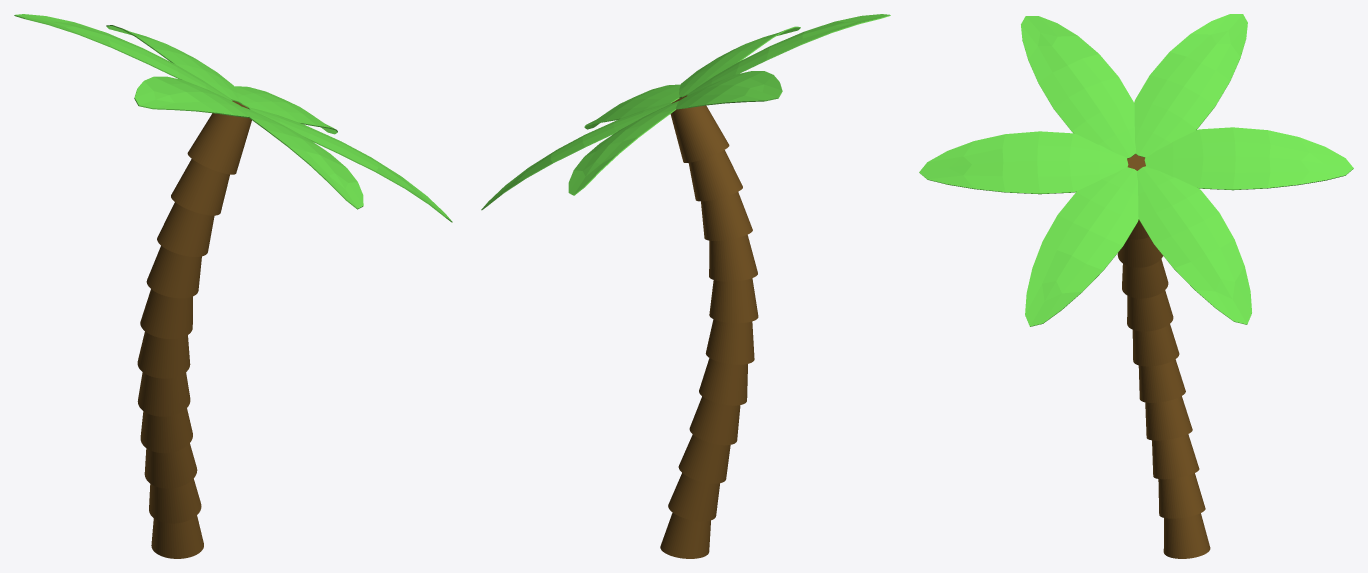
File: Tree2.glb
3 renders of one model, left to right at view 1: azimuth 30°, elevation 25°; view 2: azimuth 150°, elevation 25°; view 3: azimuth 270°, elevation 25°, orthographic. The views are drawn at different scales.
Parts seen in each view (by area): view 1: PalmTree; view 2: PalmTree; view 3: PalmTree.
Boxes of the visible parts, <box> form: PalmTree: <box>14,14,452,558</box>; PalmTree: <box>481,14,890,558</box>; PalmTree: <box>919,14,1353,558</box>.
Size of the model in its own units: 3.49 by 5.69 by 4.64.
